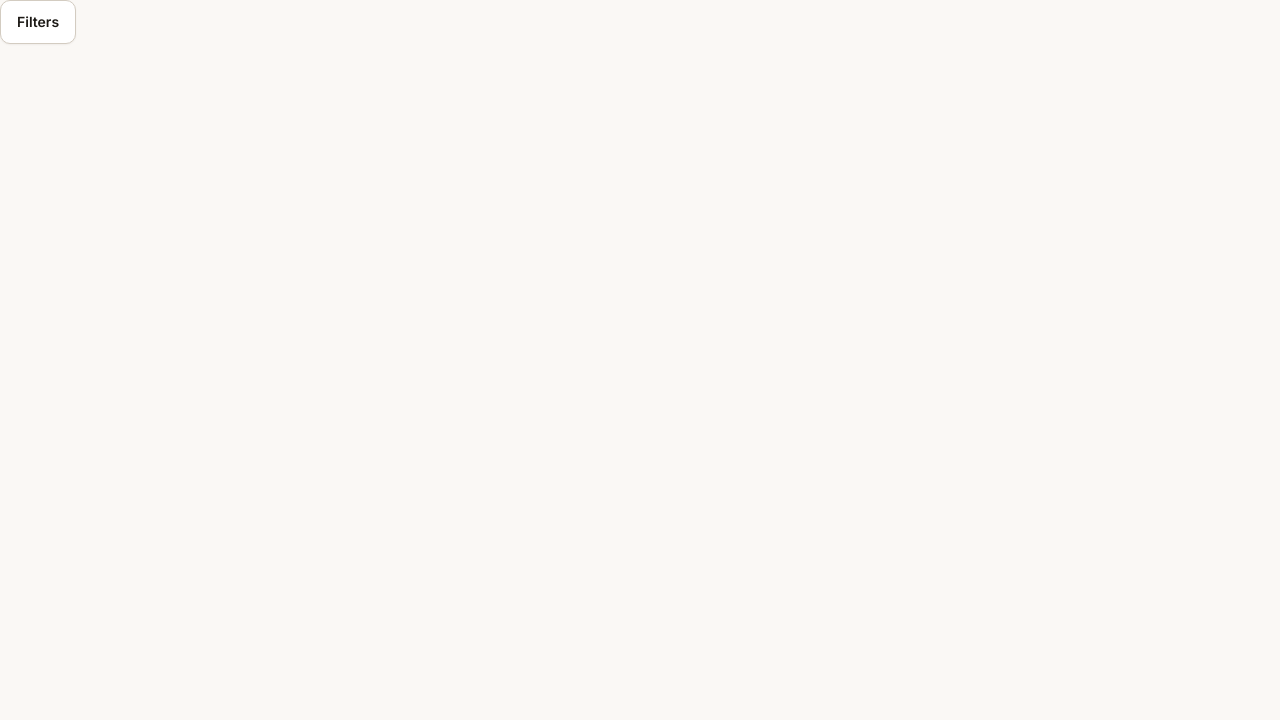
it: Sheet › opens as a dialog, closes on Escape and returns focus
Click the button "Filters" at (38, 22), box x1=0 y1=0 x2=76 y2=44
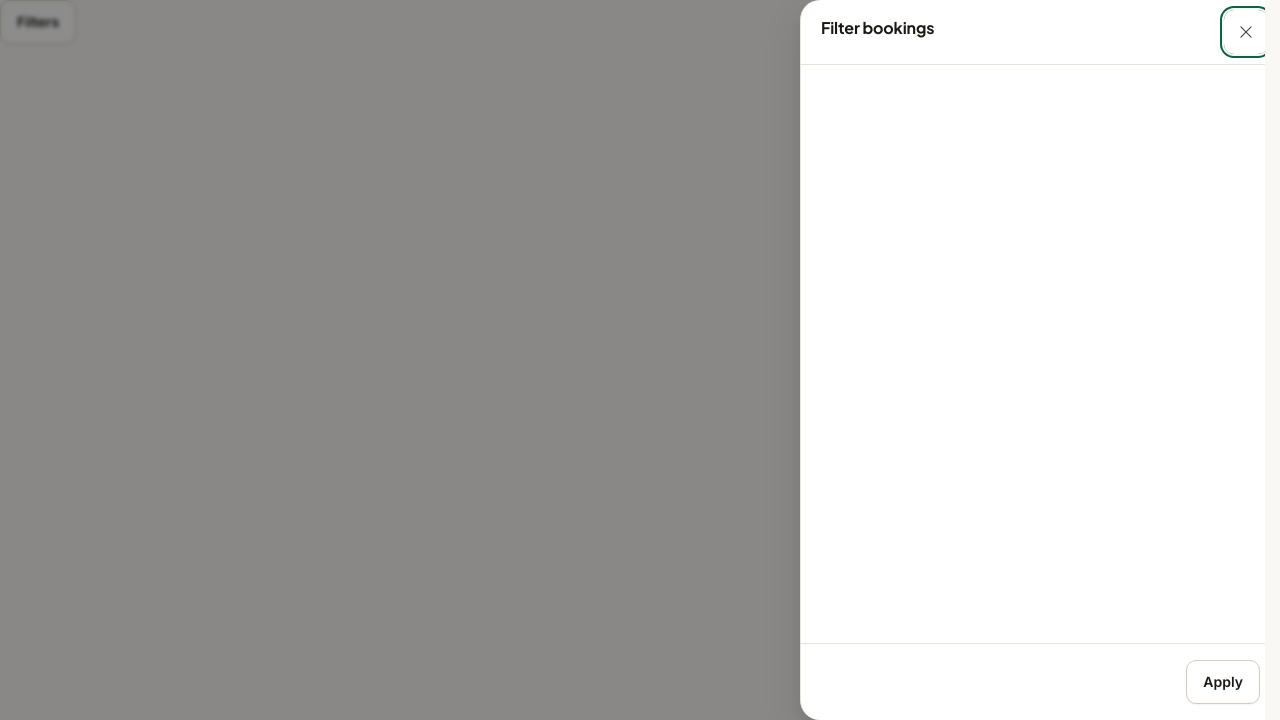
Press Escape
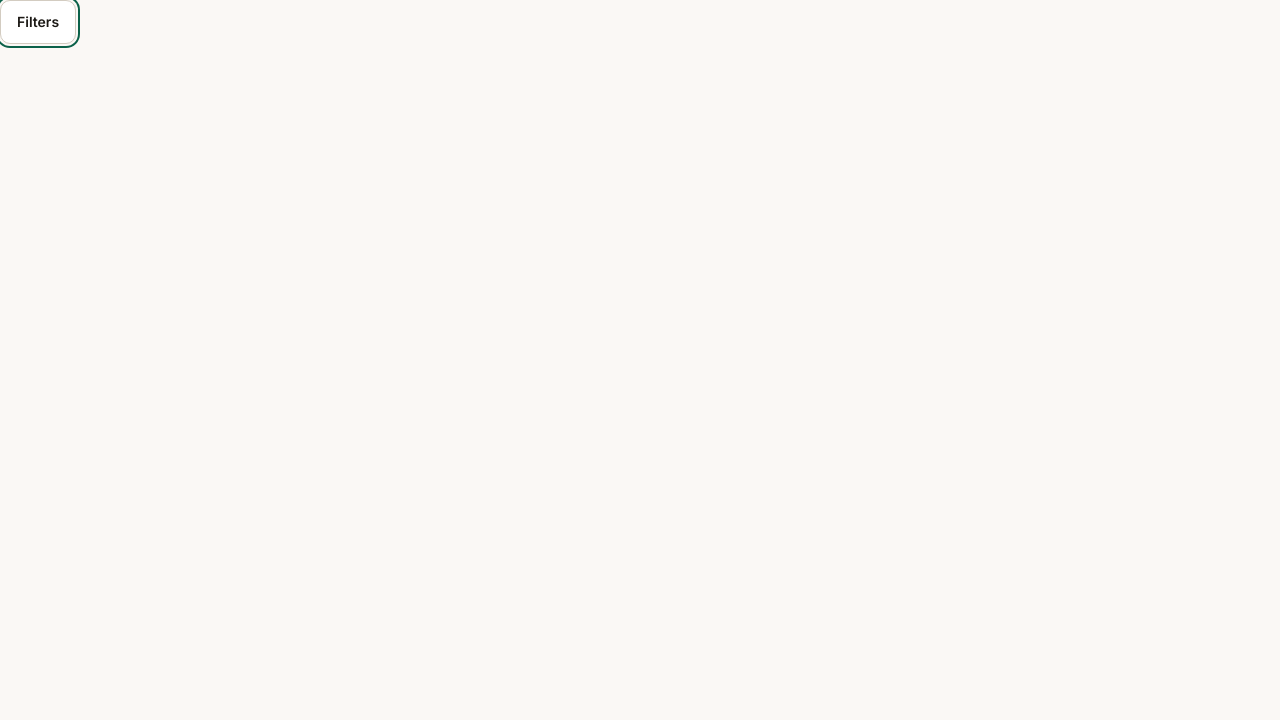
Expected: the dialog is gone
